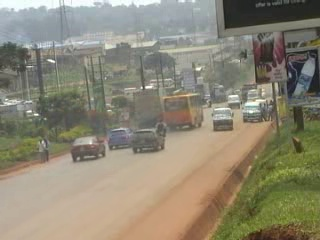Car: (69, 133, 107, 164), (129, 126, 166, 157), (108, 125, 134, 152)
Motorcycle: (154, 118, 167, 139)
